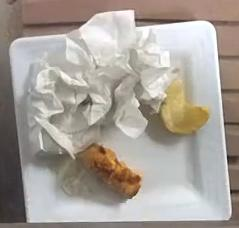fries: (160, 79, 210, 134)
pizza_crust: (76, 143, 140, 196)
